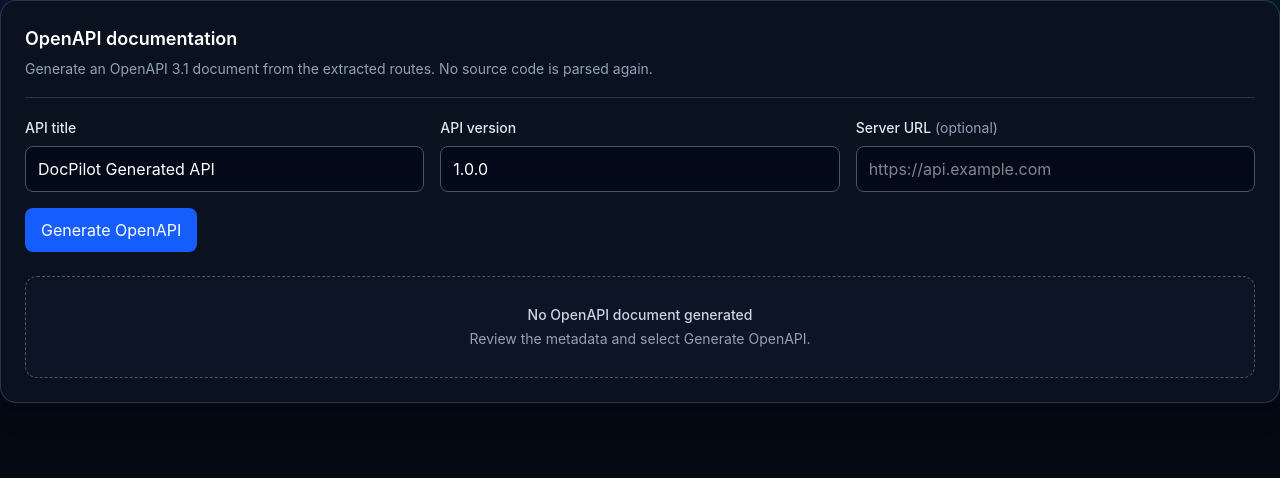
Test: OpenApiPanel › validates the server URL before sending a request
This screenshot has width=1280, height=478.
Type "ftp://example.com" into the field labelled "Server URL(optional)" at (1055, 169), box [856,146,1255,192]
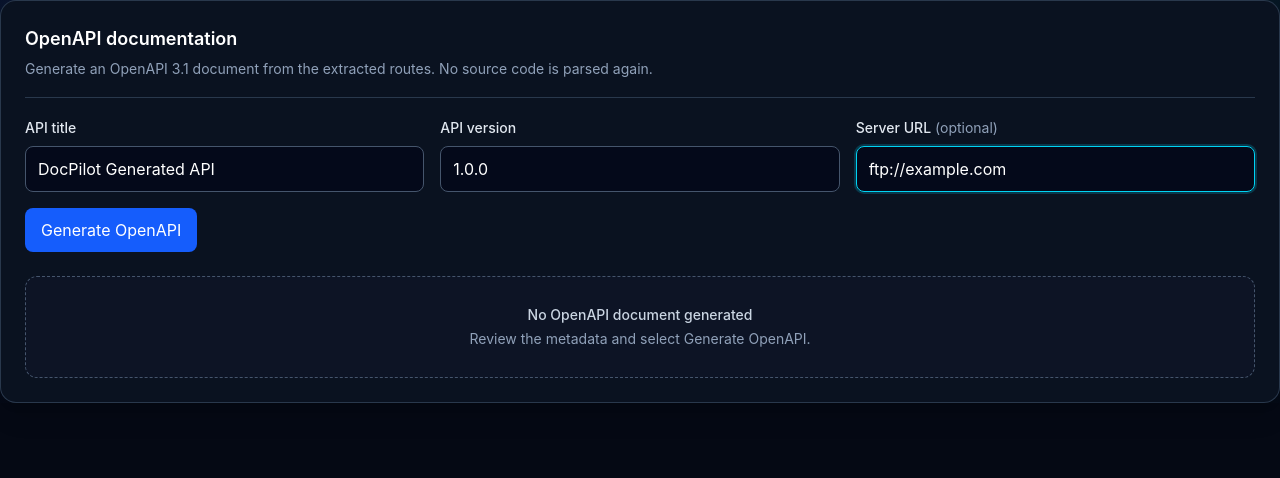
Click the button "Generate OpenAPI" at (111, 230), box [25,208,197,252]
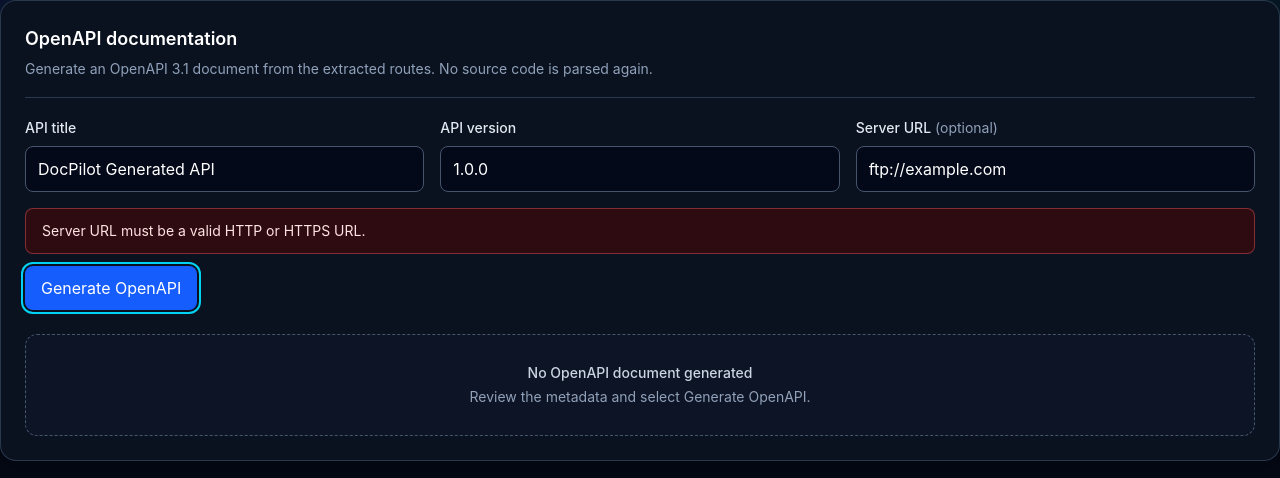
expect the message reads "Server URL must be a valid HTTP or HTTPS URL.": met, box [42,222,365,239]
